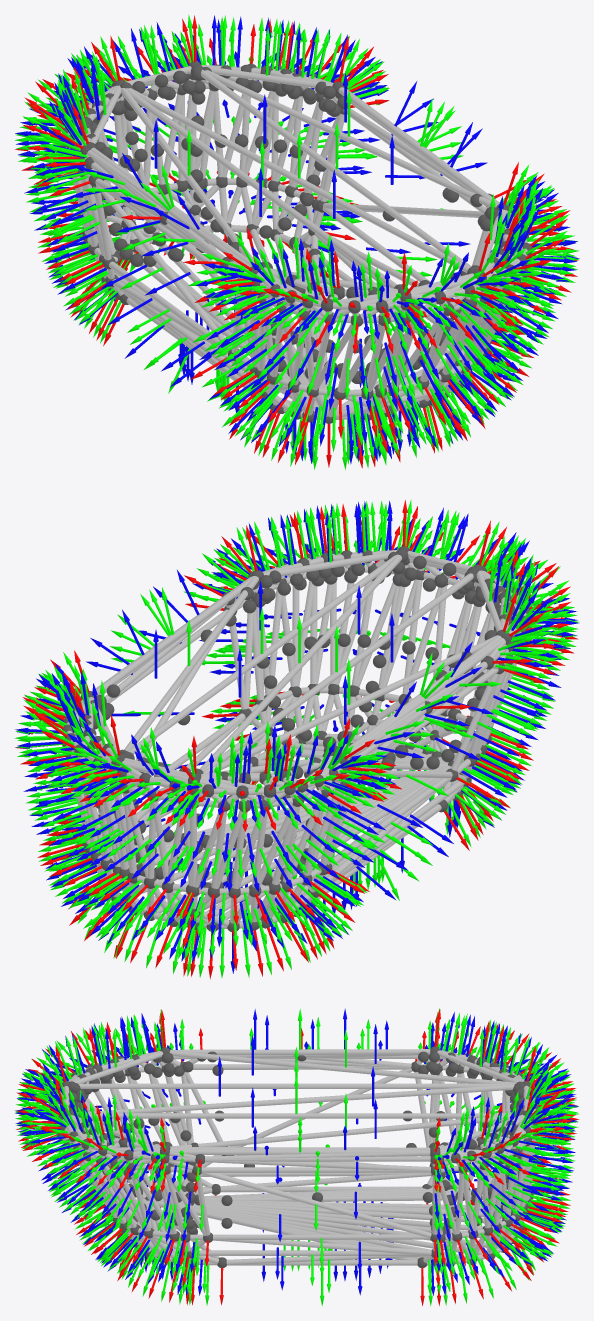
The model's file is flowrep_bathtub.gltf.
3 views of the same model, one above another, from view 1: azimuth 30°, elevation 25°; view 2: azimuth 150°, elevation 25°; view 3: azimuth 270°, elevation 25° (orthographic). The views are drawn at different scales.
Size of the model in its own units: 0.6009 by 0.4088 by 1.02.
